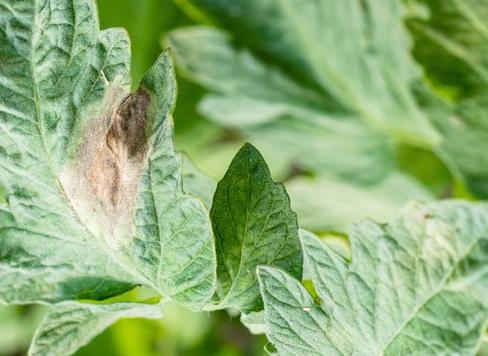Tomato leaf late blight: (0, 0, 222, 356), (256, 190, 488, 356)
